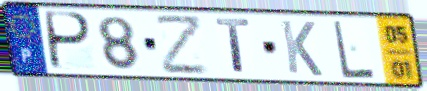8: (95, 14, 144, 71)
K: (278, 18, 325, 79)
L: (331, 18, 378, 80)
P: (45, 9, 95, 73)
T: (213, 16, 253, 77)
Z: (153, 14, 210, 76)
